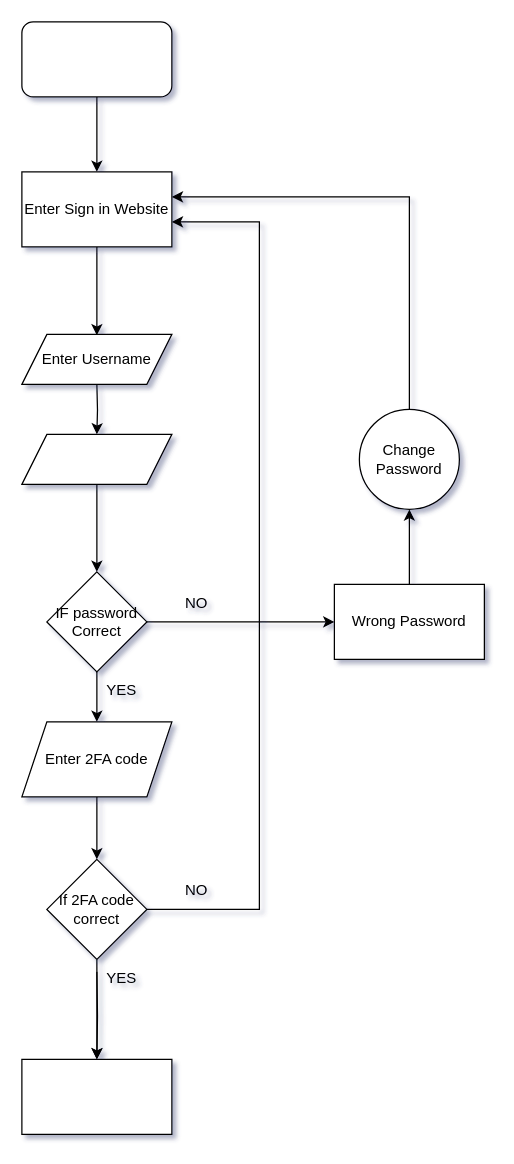
Image size: 514x1164. Some labels were removed from this diagram. The centre of each missing label's shape, as x and y in pixels:
"Enter Password" goes at (96,458).
"Sign in Successfully" goes at (96,1096).
"Start" goes at (96,59).
